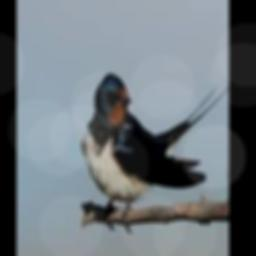Swallow: (82, 73, 229, 227)
